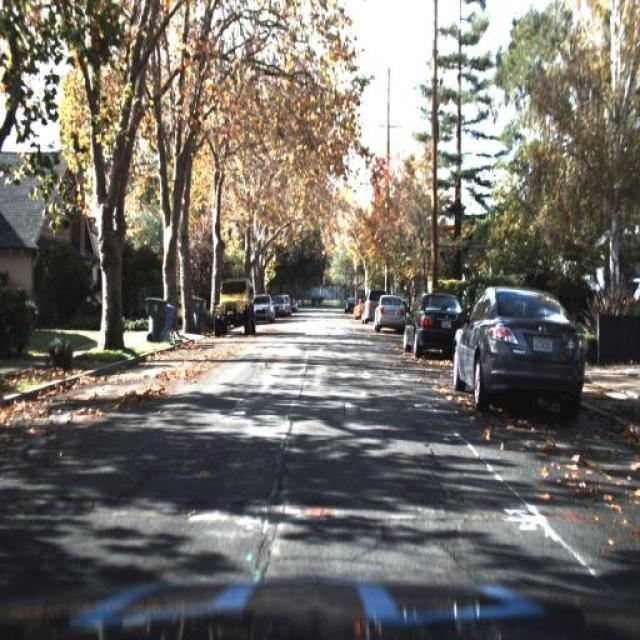car: (450, 266, 592, 416), (395, 287, 461, 358), (212, 274, 258, 335), (372, 292, 407, 337), (363, 286, 379, 323), (255, 291, 274, 321), (362, 290, 378, 324), (350, 286, 364, 320), (273, 293, 289, 317), (274, 294, 286, 324)
